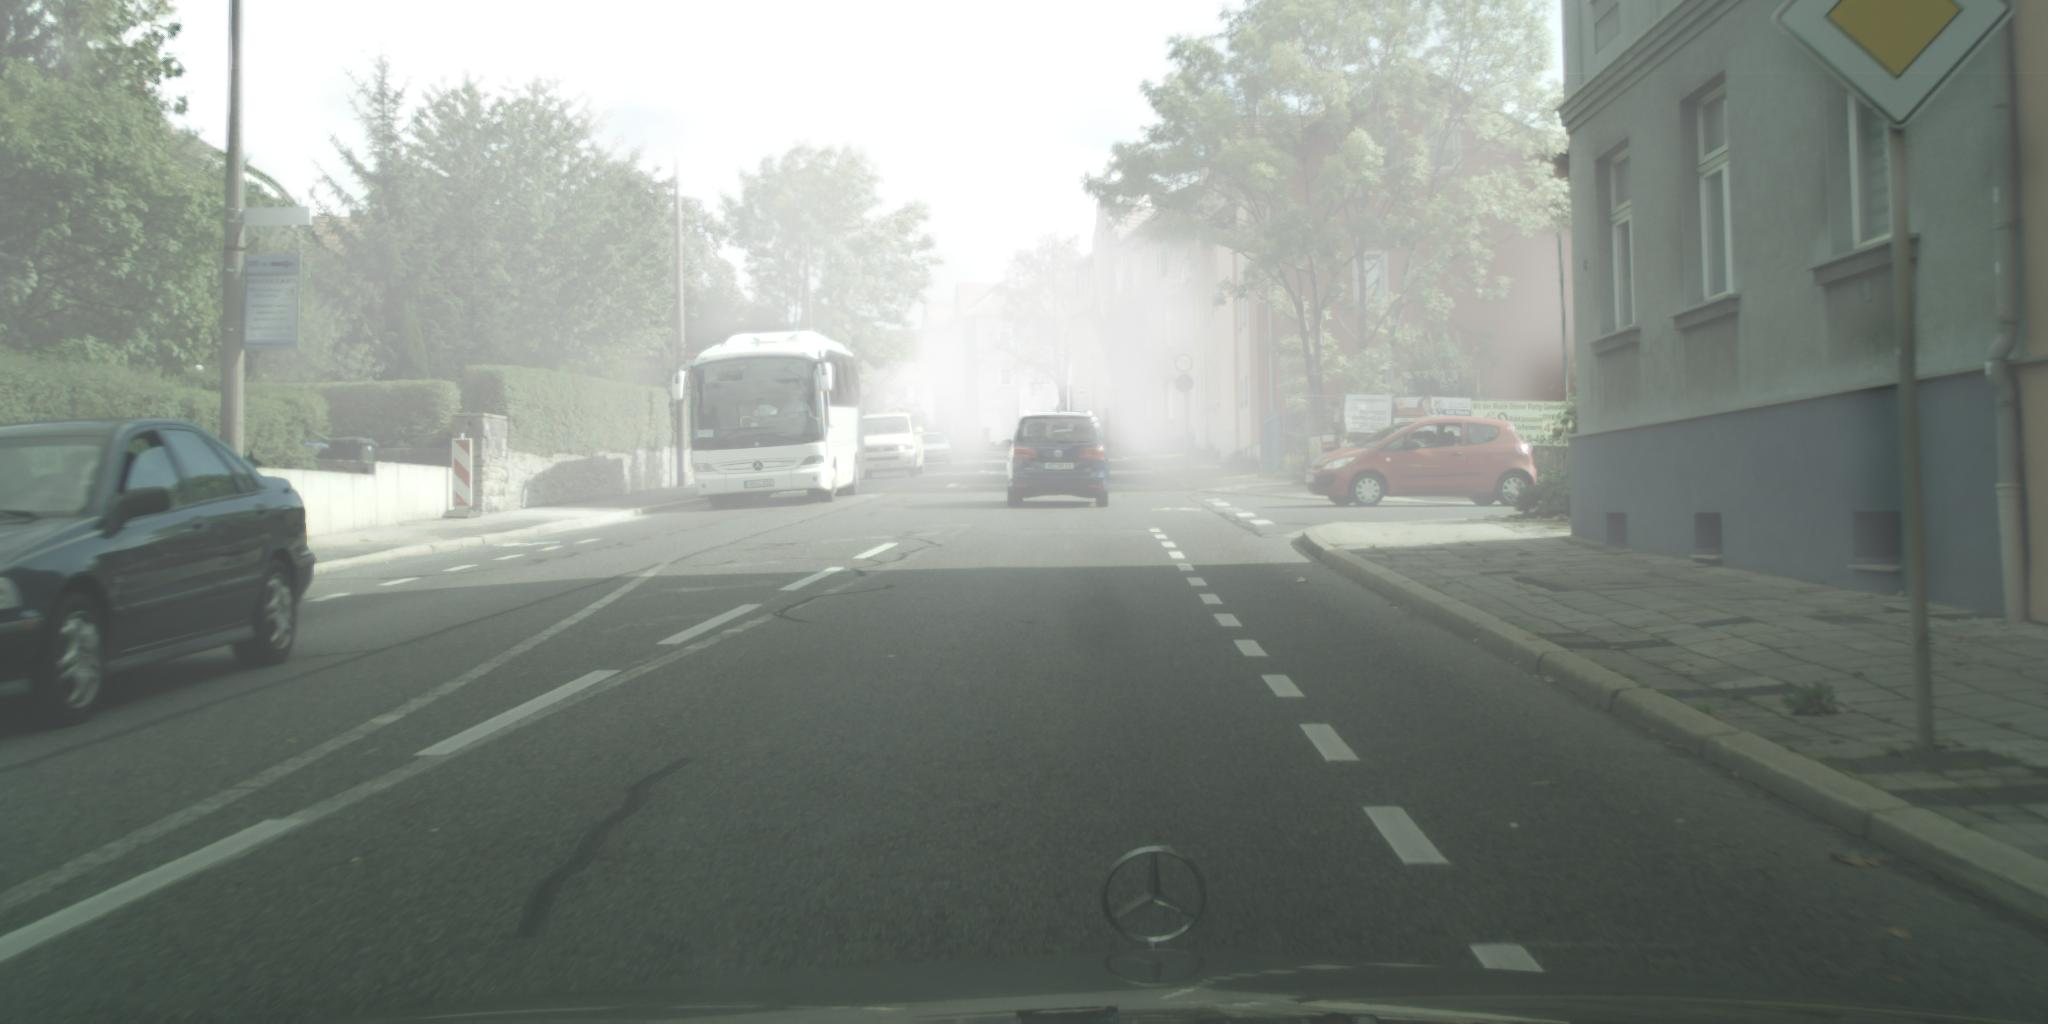bus: (690, 330, 867, 512)
car: (1, 419, 319, 729), (1305, 415, 1539, 508), (1008, 411, 1110, 509), (850, 409, 926, 481), (918, 432, 955, 468)
